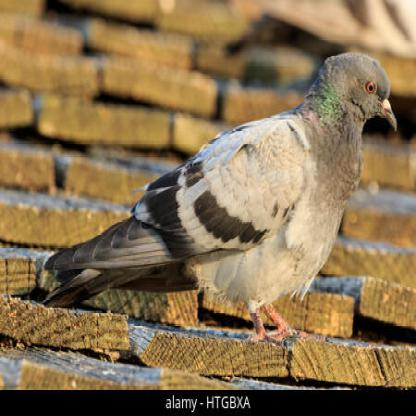Rock Pigeon: (47, 44, 398, 312)
